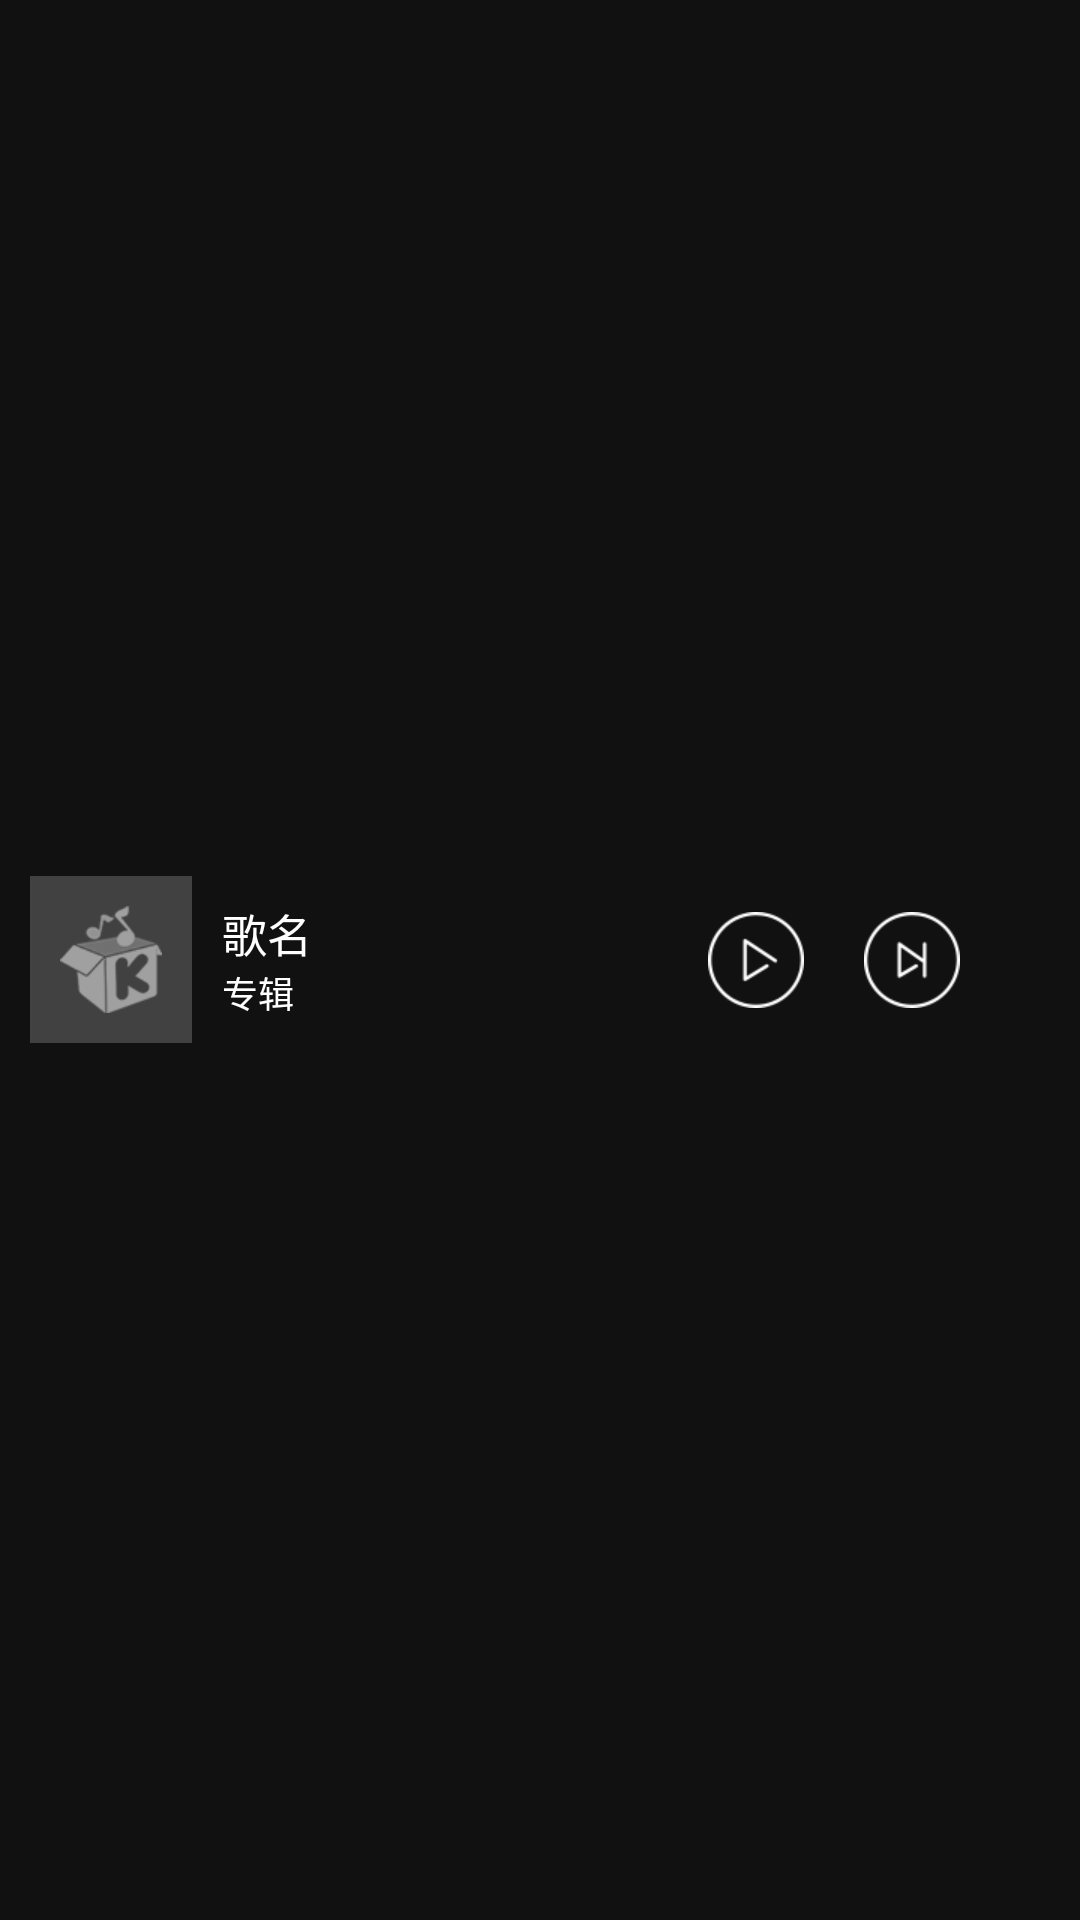

Where icons sit on this 1080 x 1920 app screen, as (x1, y1, x2, y2):
play: (708, 912, 804, 1008)
playnext: (864, 912, 960, 1008)
